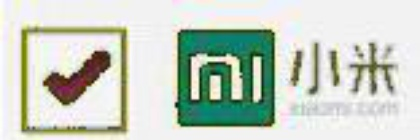CheckBox: (1, 1, 419, 139)
